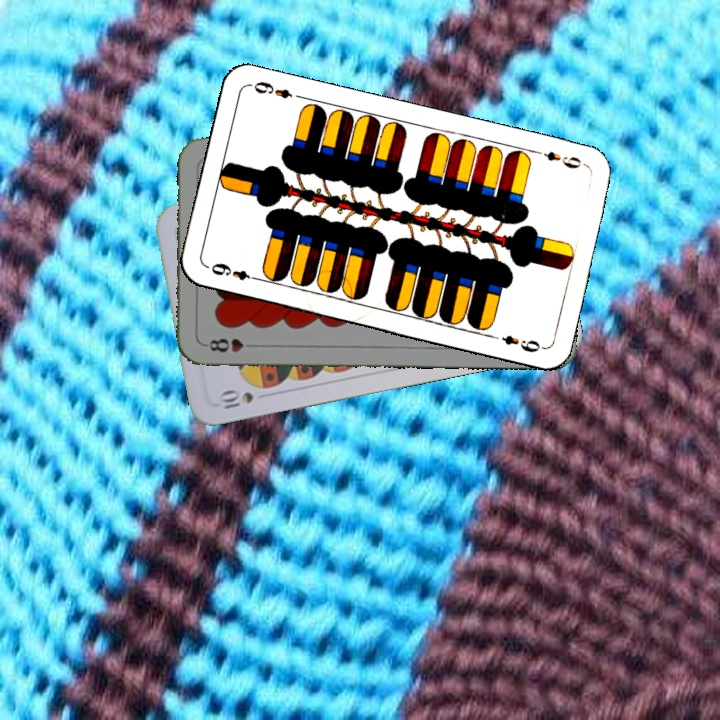E9: (530, 146, 588, 172), (207, 259, 263, 284)
H8: (201, 334, 260, 355)
S10: (214, 386, 256, 412)
